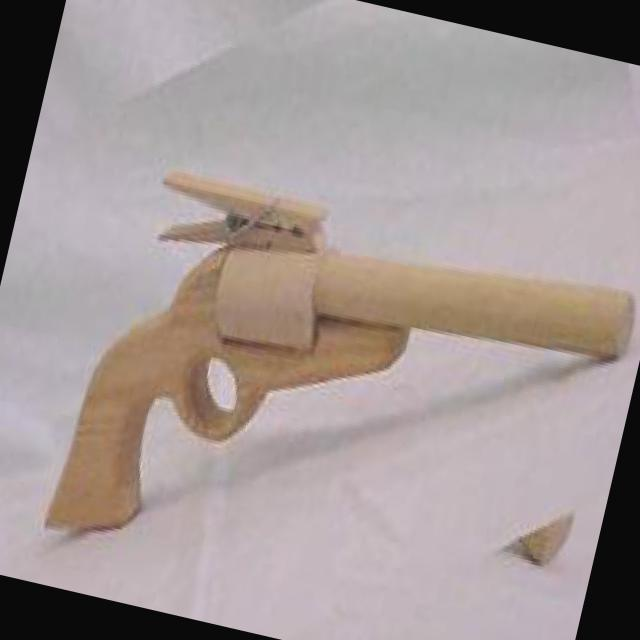handgun: (27, 138, 639, 638)
